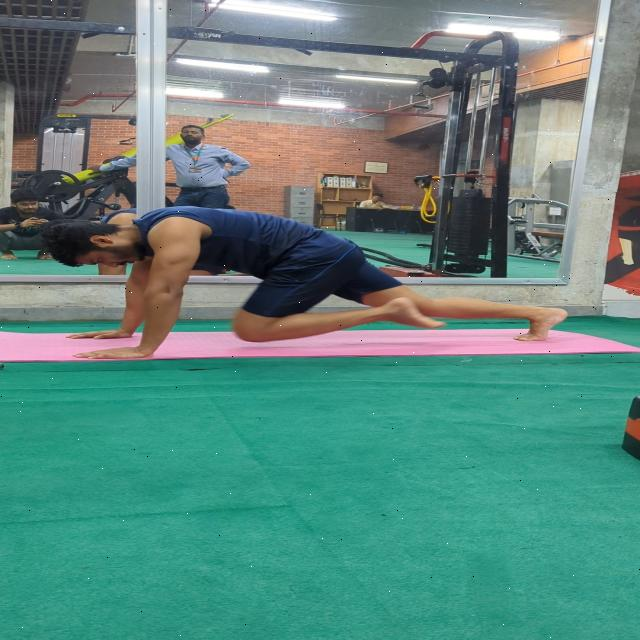Normal_MountainClimbers: (57, 202, 565, 364)
